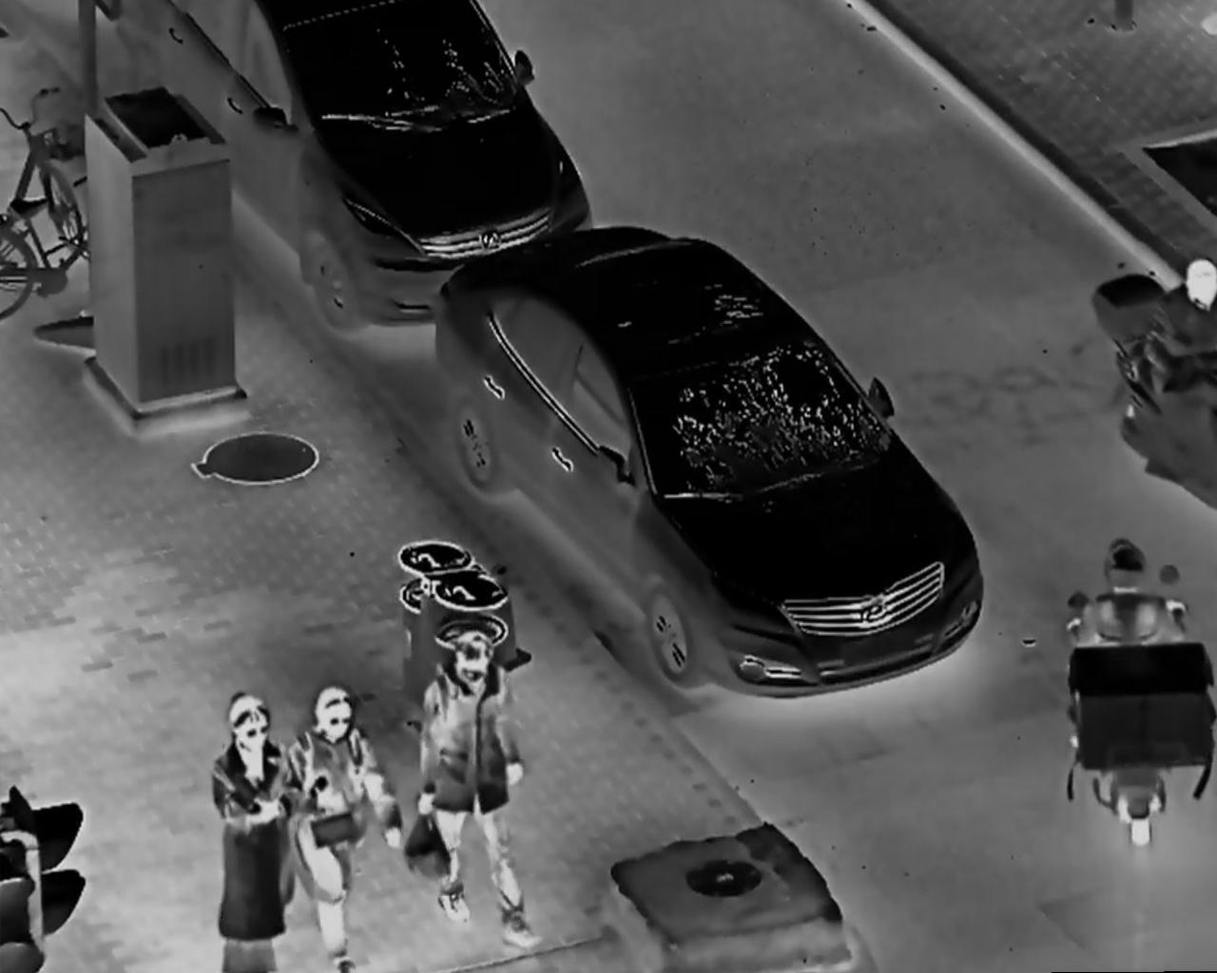person: (409, 632, 536, 951), (280, 679, 414, 973), (1057, 533, 1203, 791), (210, 693, 303, 973), (1142, 245, 1217, 473)
